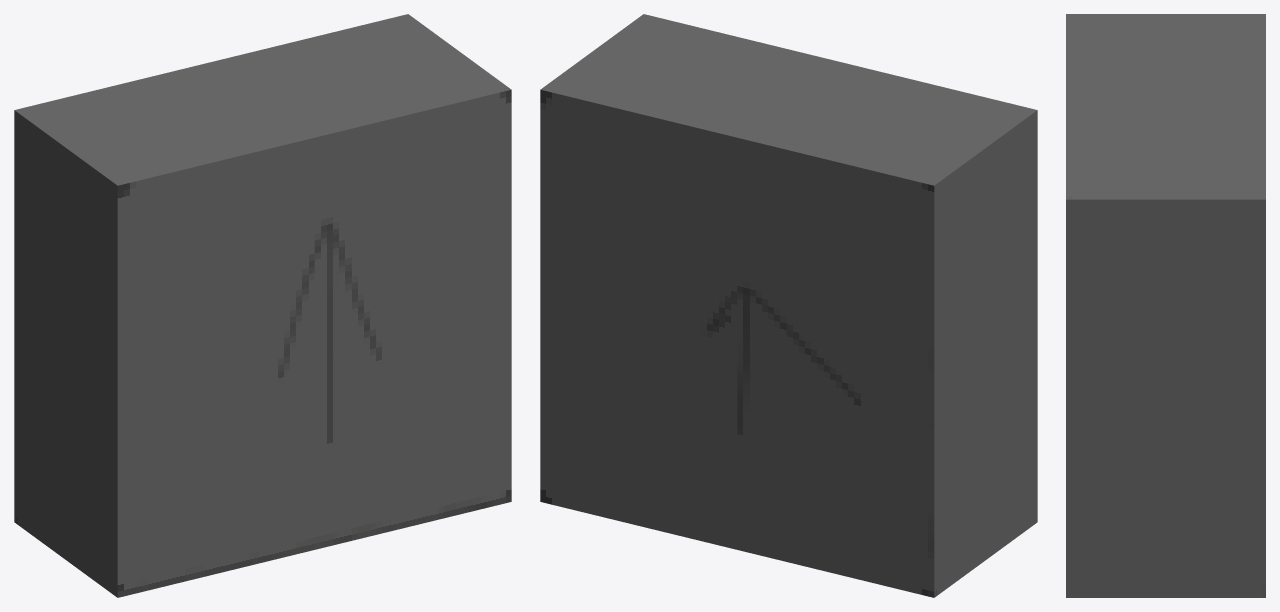
Rendered from Wall_LOD3.glb.
3 views of the same model, side by side, from view 1: azimuth 30°, elevation 25°; view 2: azimuth 150°, elevation 25°; view 3: azimuth 270°, elevation 25° (orthographic). The views are drawn at different scales.
Parts seen in each view (by area): view 1: Cube; view 2: Cube; view 3: Cube.
Part boxes in pixels (x1,y1,x2,y2): Cube: (14, 14, 511, 597); Cube: (540, 14, 1037, 597); Cube: (1066, 14, 1265, 597).
Bounding box in the file's own units: 4.4 × 4.4 × 2.
Materials: 1 (1 with a texture image).
